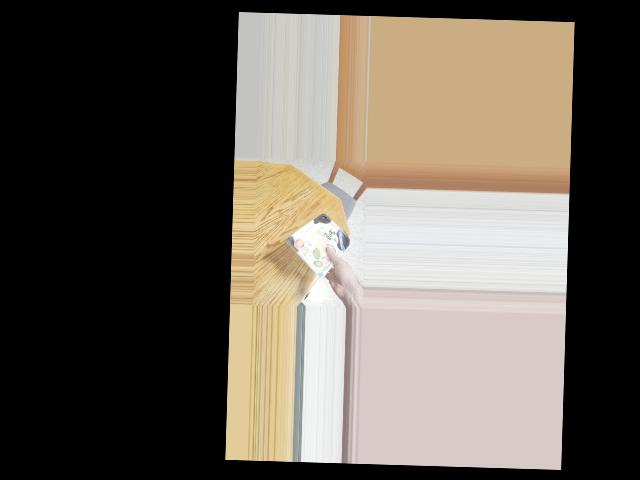cheese: (293, 218, 350, 267)
